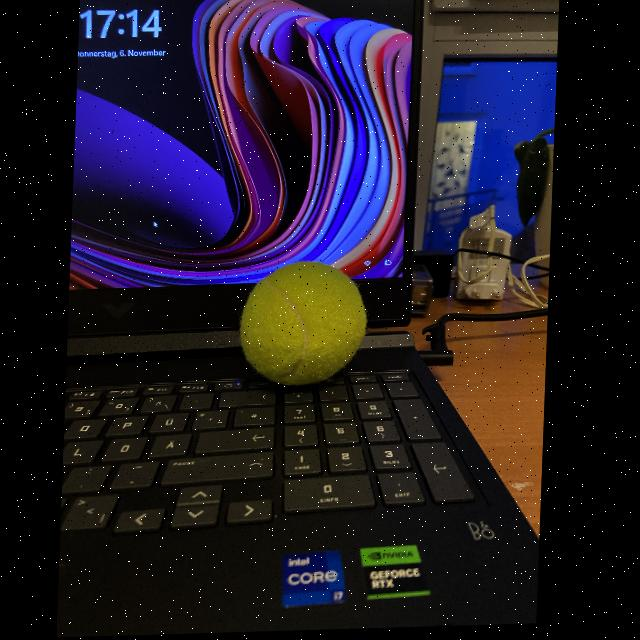Tennisball: (240, 262, 367, 386)
